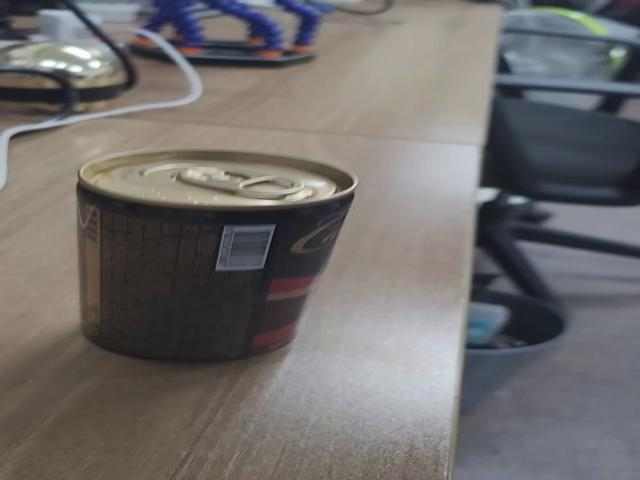Canned_drinks: (66, 149, 347, 368)
